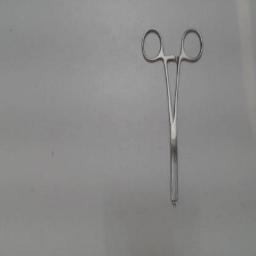Allis Tissue Forceps: (138, 24, 208, 214)
